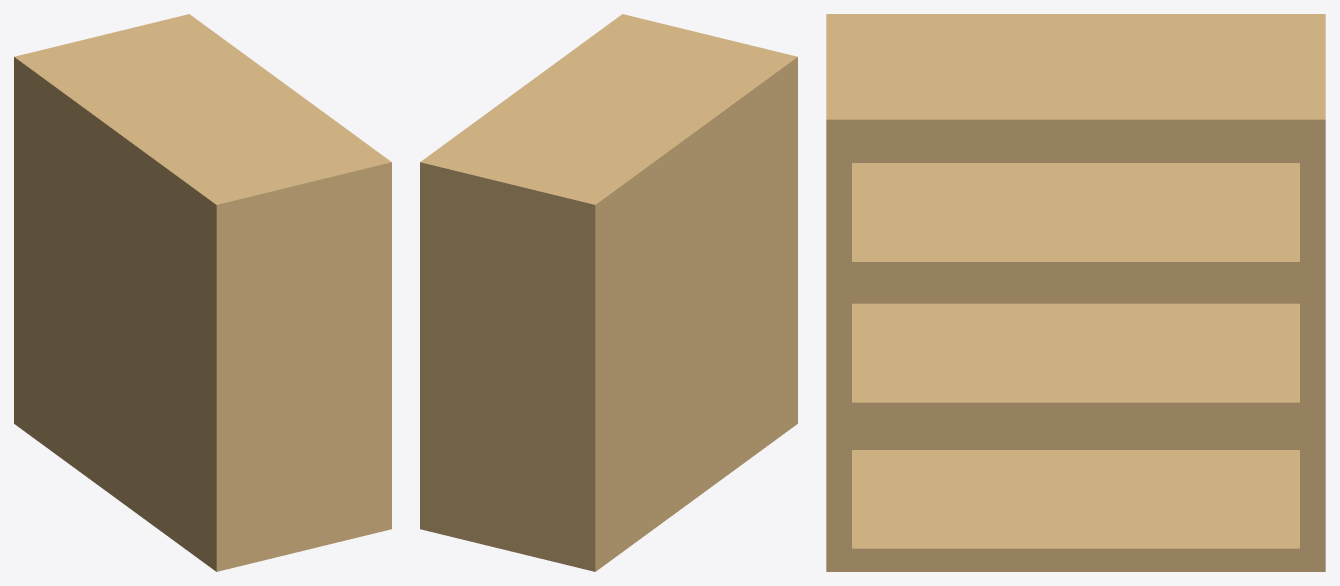
Rendered from Shelf.fbx.
3 renders of one model, left to right at view 1: azimuth 30°, elevation 25°; view 2: azimuth 150°, elevation 25°; view 3: azimuth 270°, elevation 25°, orthographic. The views are drawn at different scales.
Parts seen in each view (by area): view 1: Cube; view 2: Cube; view 3: Cube.
Part boxes in pixels (left/top/right/bottom): Cube: left=14, top=14, right=391, bottom=571; Cube: left=420, top=14, right=797, bottom=571; Cube: left=826, top=14, right=1325, bottom=571.
Size of the model in its own units: 100 by 200 by 200.
